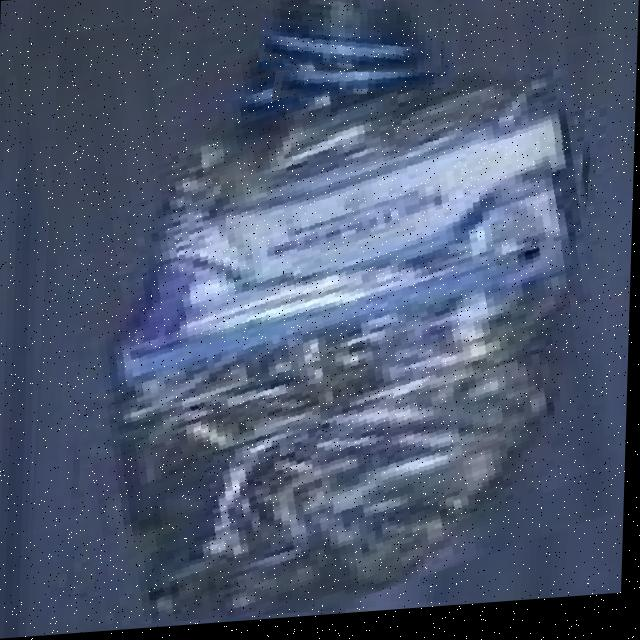litter: (26, 0, 617, 633), (258, 0, 444, 90)
